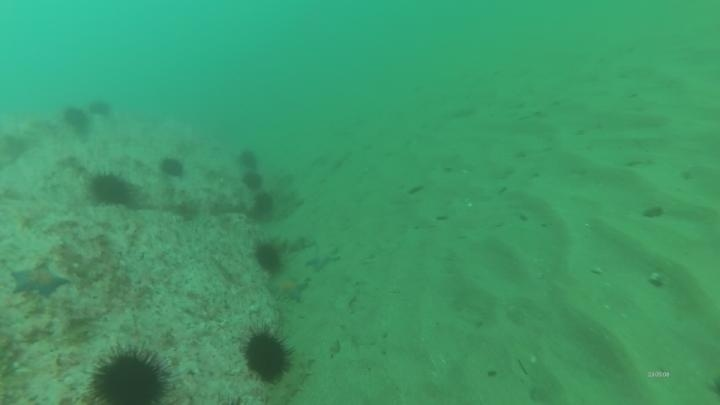echinus: (87, 344, 172, 404), (240, 326, 295, 384), (87, 169, 136, 209), (251, 240, 286, 275), (60, 104, 93, 137), (249, 191, 278, 222), (157, 154, 187, 181), (87, 97, 115, 121), (235, 147, 261, 171), (240, 169, 265, 192)
holothurian: (264, 352, 316, 405)
starfish: (9, 260, 71, 300), (266, 272, 310, 304), (303, 244, 342, 273)
